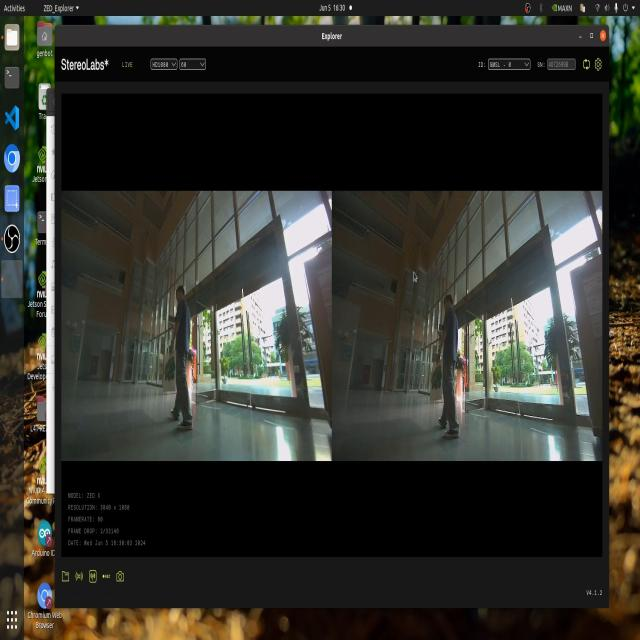green: (162, 354, 178, 386), (430, 366, 442, 395)
